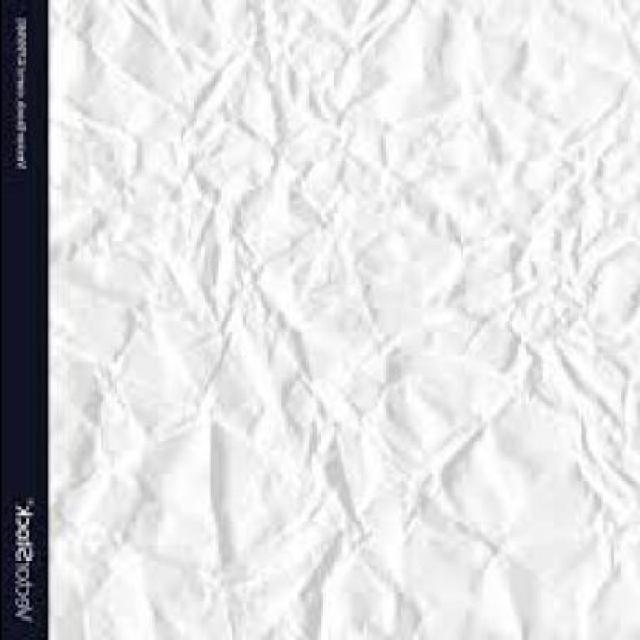PAPER: (51, 3, 638, 640)
